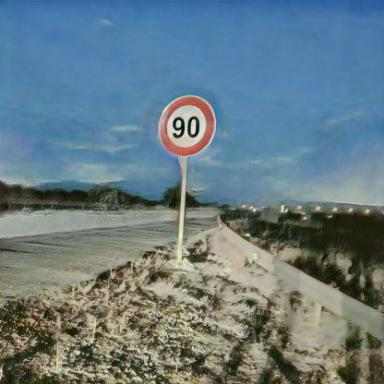Speed_limit_90: (158, 99, 216, 154)
